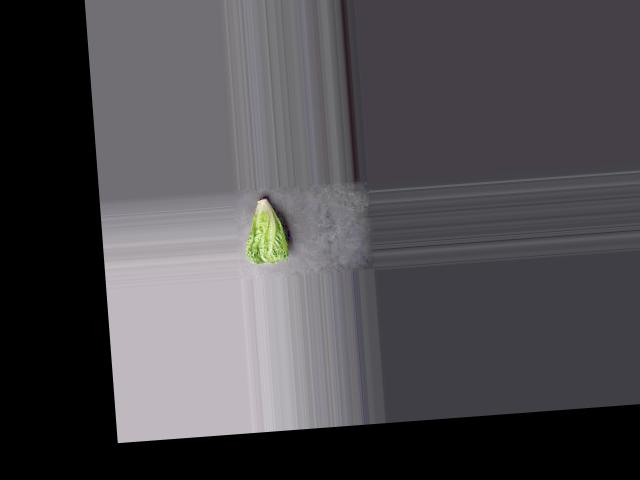lettuce: (240, 192, 291, 265)
